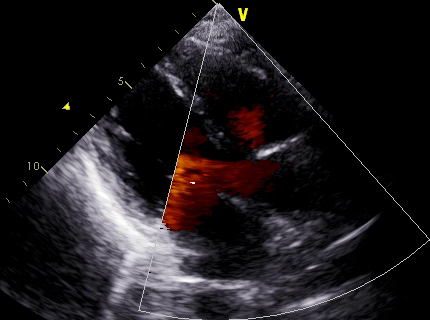AR: (188, 151, 283, 201)
